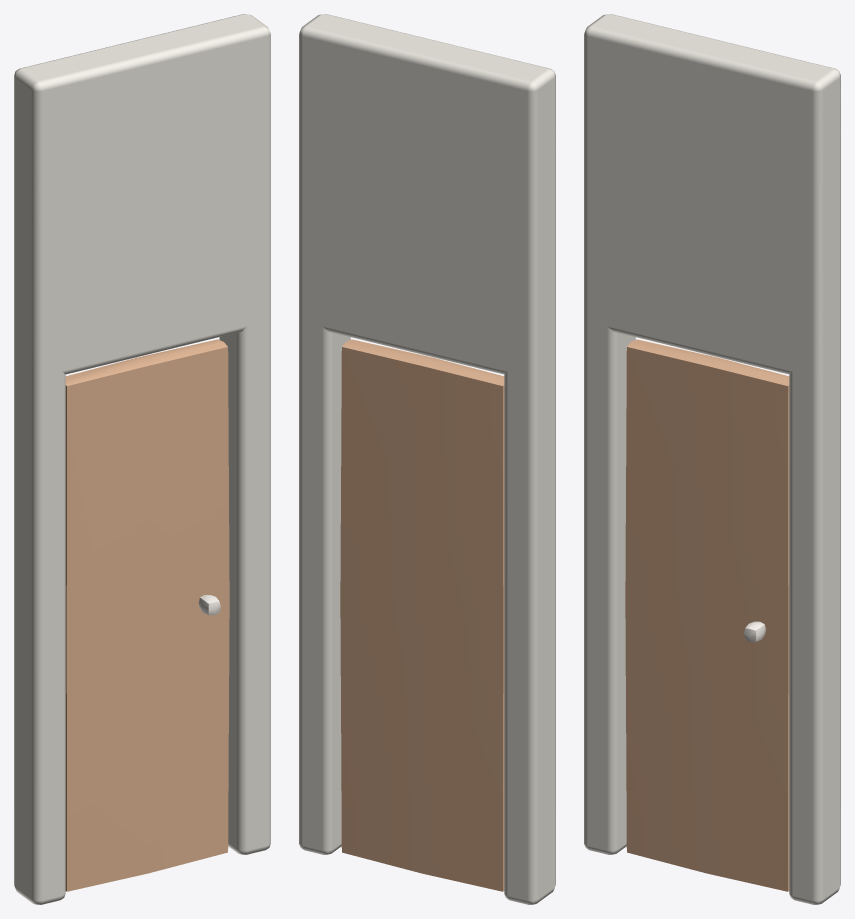
The model's file is wall-door.glb.
The picture shows the model from 3 angles, left to right: view 1: azimuth 30°, elevation 25°; view 2: azimuth 150°, elevation 25°; view 3: azimuth 330°, elevation 25°; orthographic projection.
Visible parts, largest first — view 1: part (×3), solid-header; view 2: part (×3), solid-header; view 3: part (×3), solid-header.
Boxes of the visible parts, x1,y1,x2,y2 form: part (×3): (14, 27, 270, 904); solid-header: (14, 14, 270, 376); part (×3): (299, 27, 555, 904); solid-header: (299, 14, 555, 375); part (×3): (584, 26, 840, 904); solid-header: (584, 14, 840, 375).
Bounding box in the file's own units: 1 × 3.3 × 0.225.
1 material, 1 textured.
